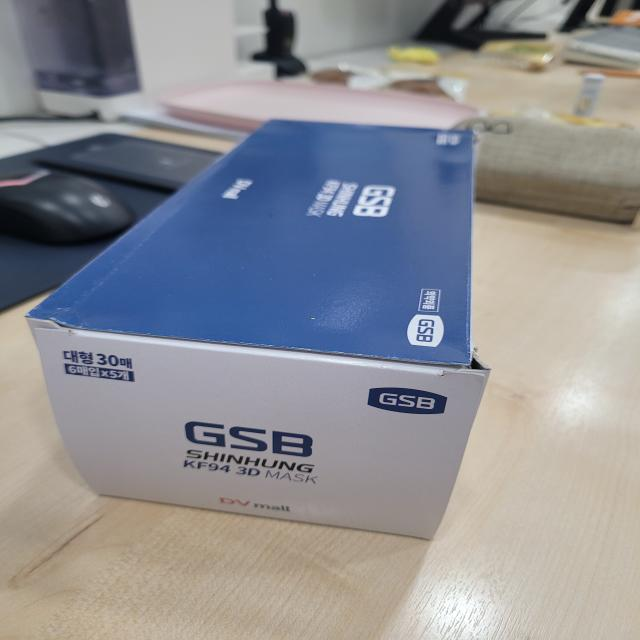mask: (12, 94, 507, 566)
